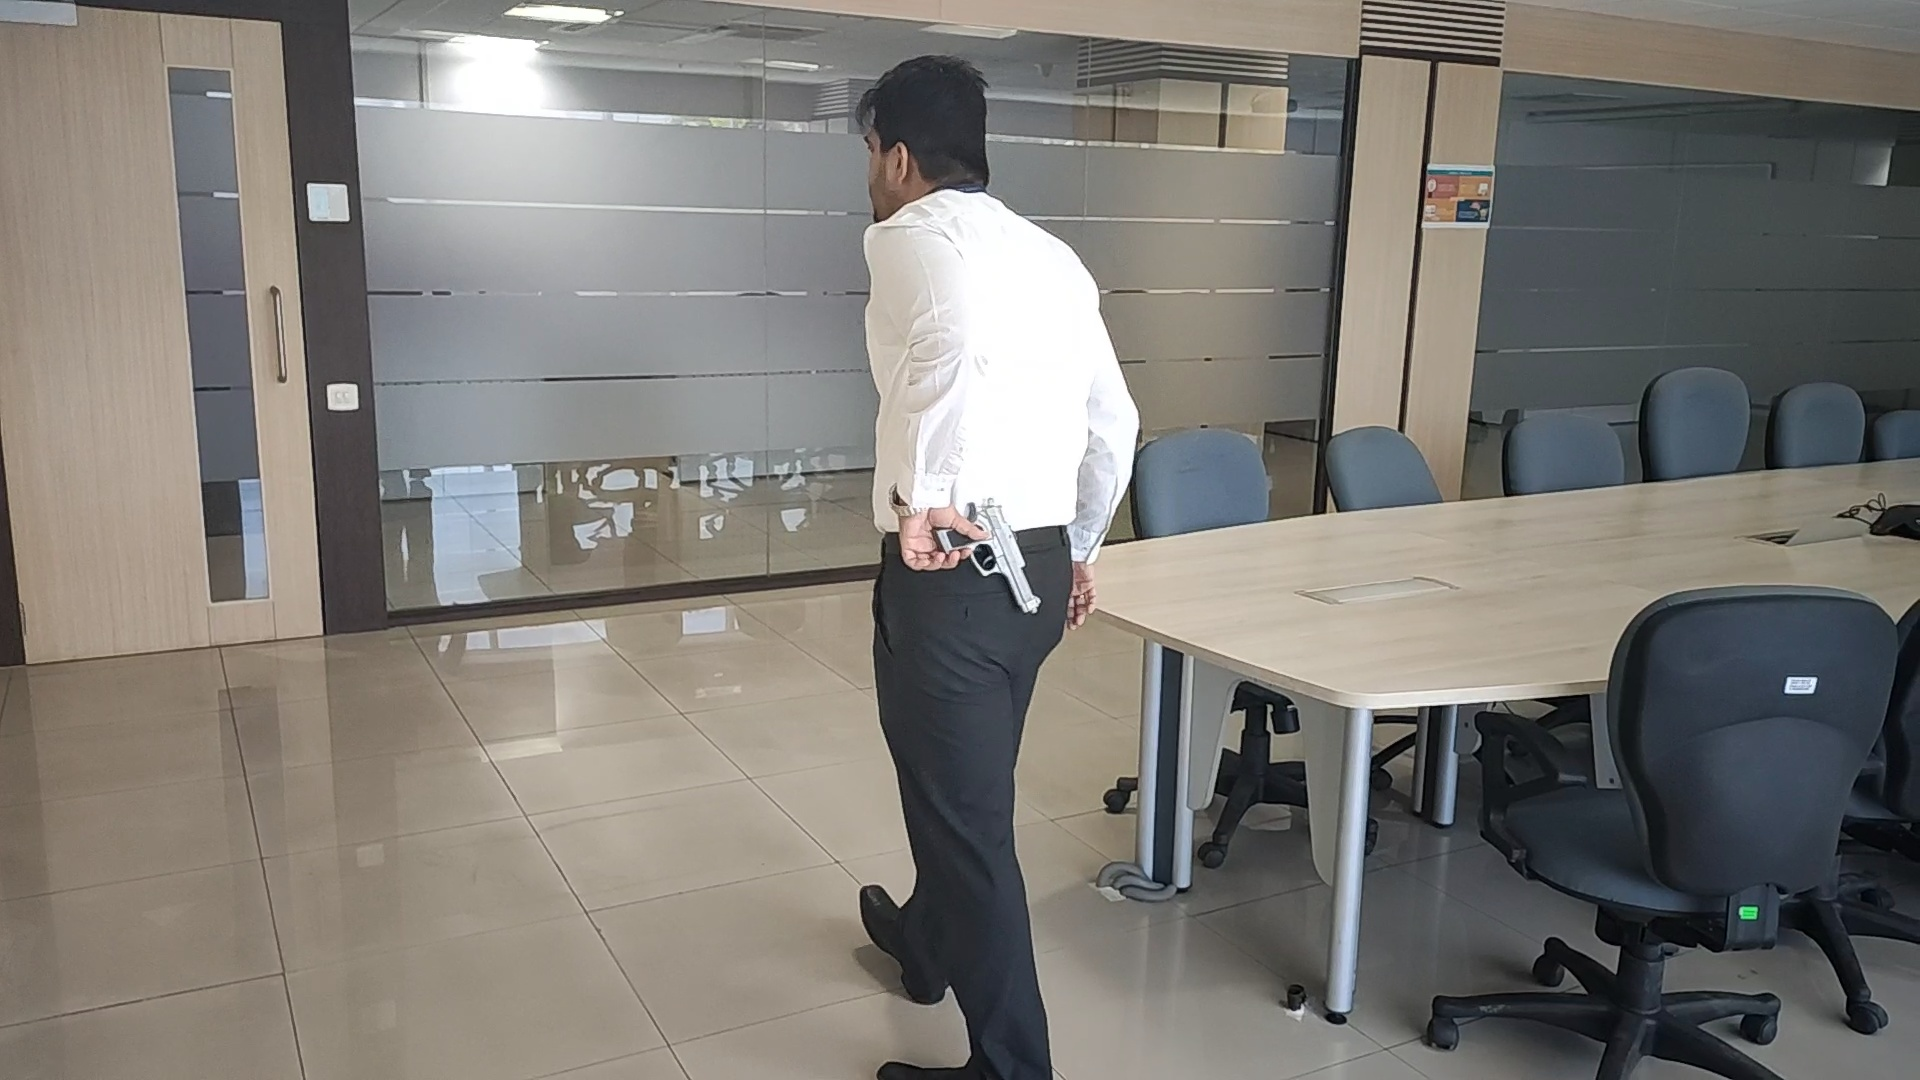gun: (934, 496, 1043, 613)
